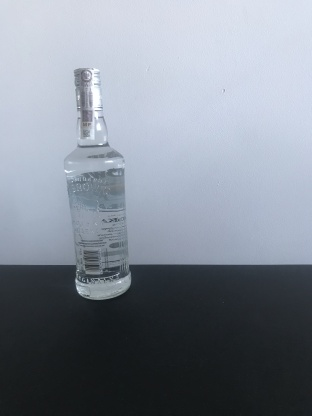nakretka: (71, 64, 105, 112)
